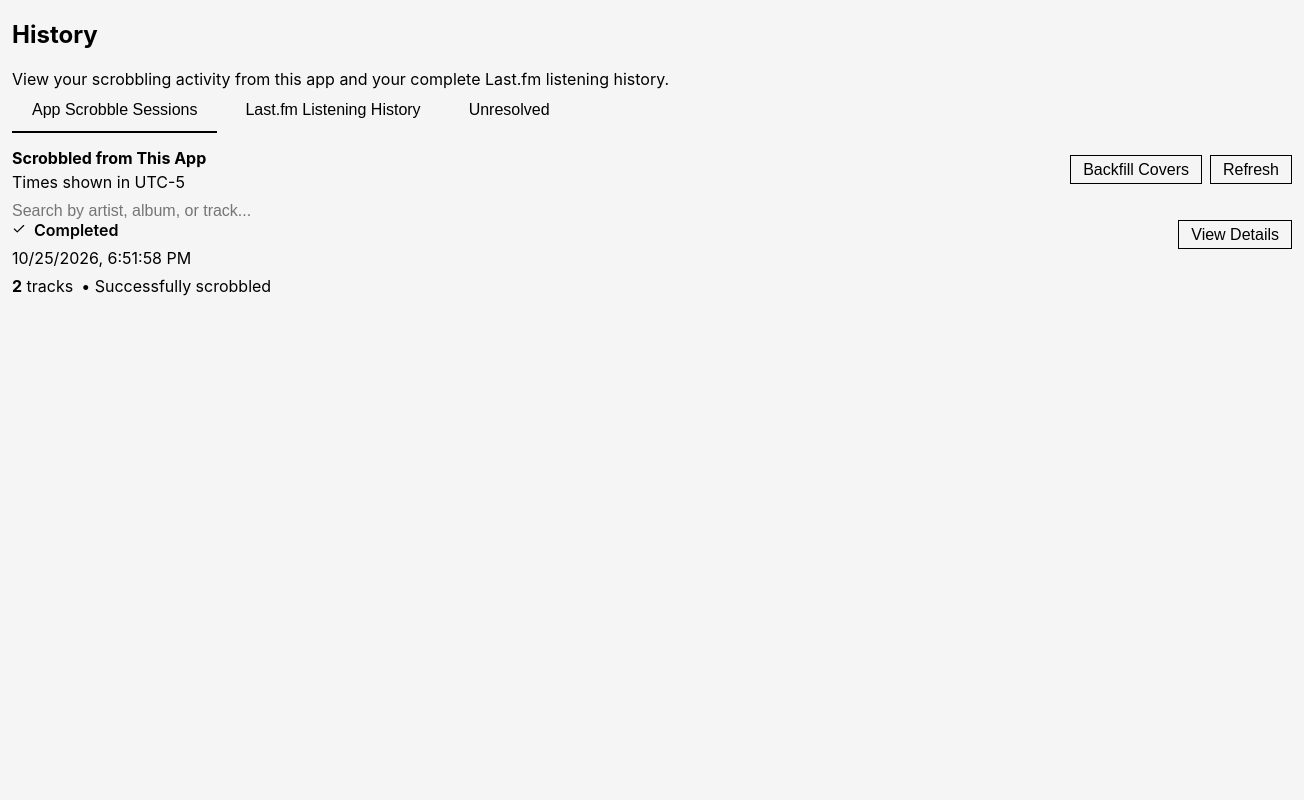
Test: HistoryPage › Session Details › can hide session details
Expected: the button "View Details" is shown, x1=1191 y1=225 x2=1279 y2=244
# Show details
Click the button "View Details".
click(1235, 234)  # box x1=1178 y1=220 x2=1292 y2=249
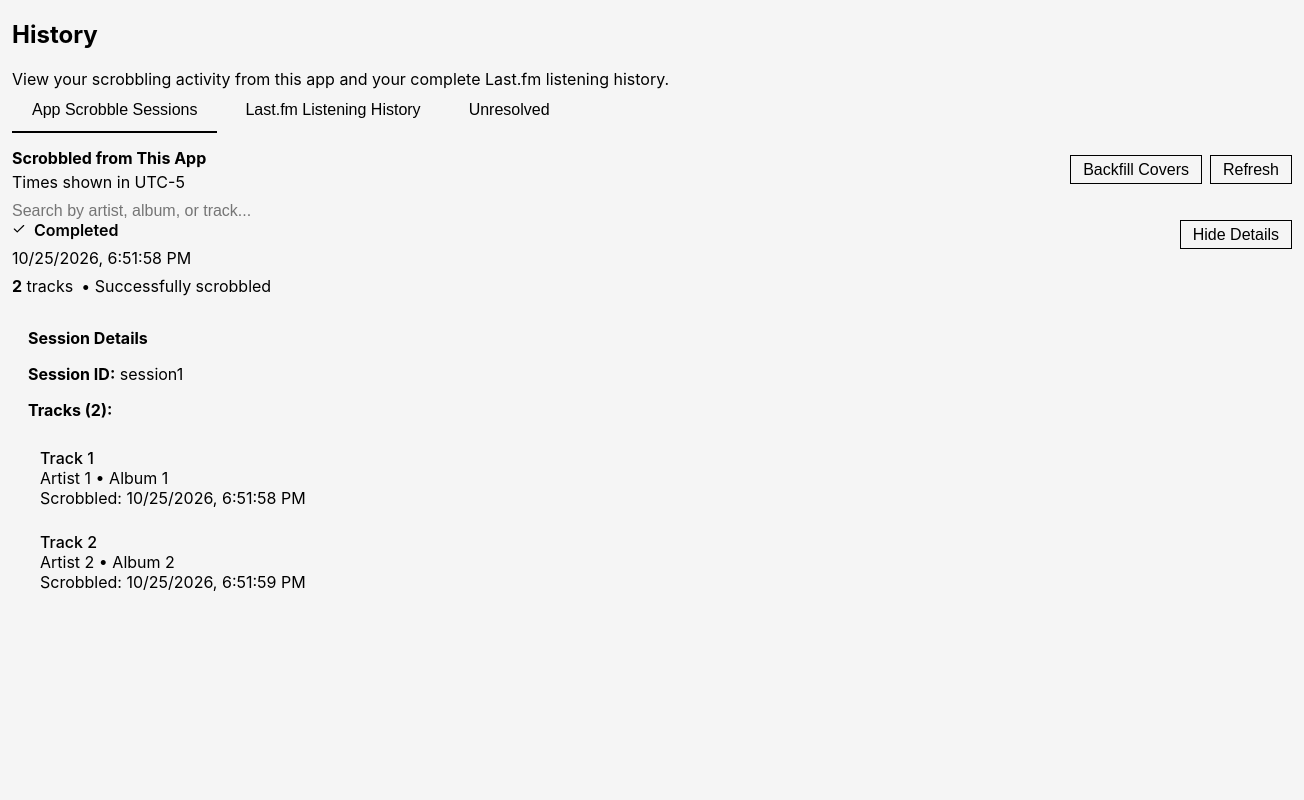
Expected: the heading "Session Details" is shown, x1=28 y1=328 x2=148 y2=348
# Hide details
Click the button "Hide Details".
click(1236, 234)  # box x1=1180 y1=220 x2=1292 y2=249
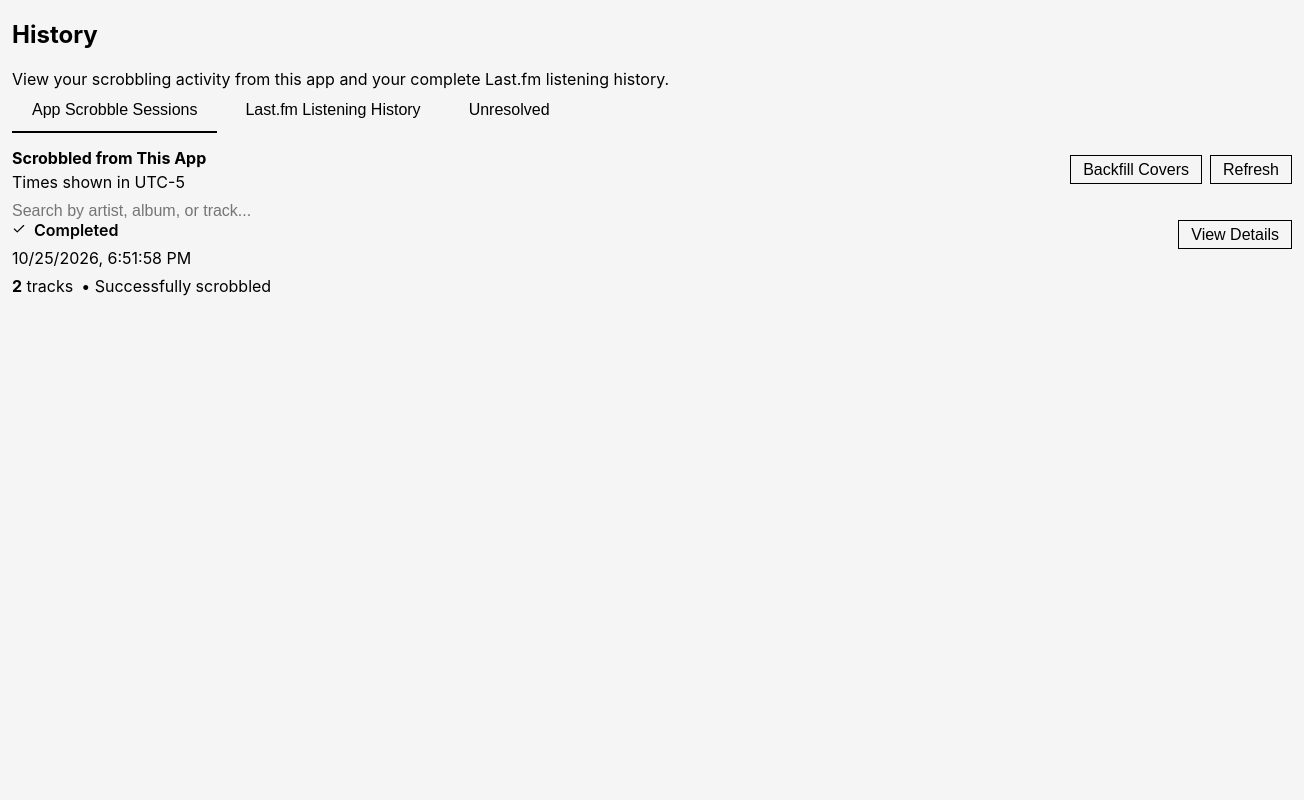
Expected: the heading "Session Details" is gone
